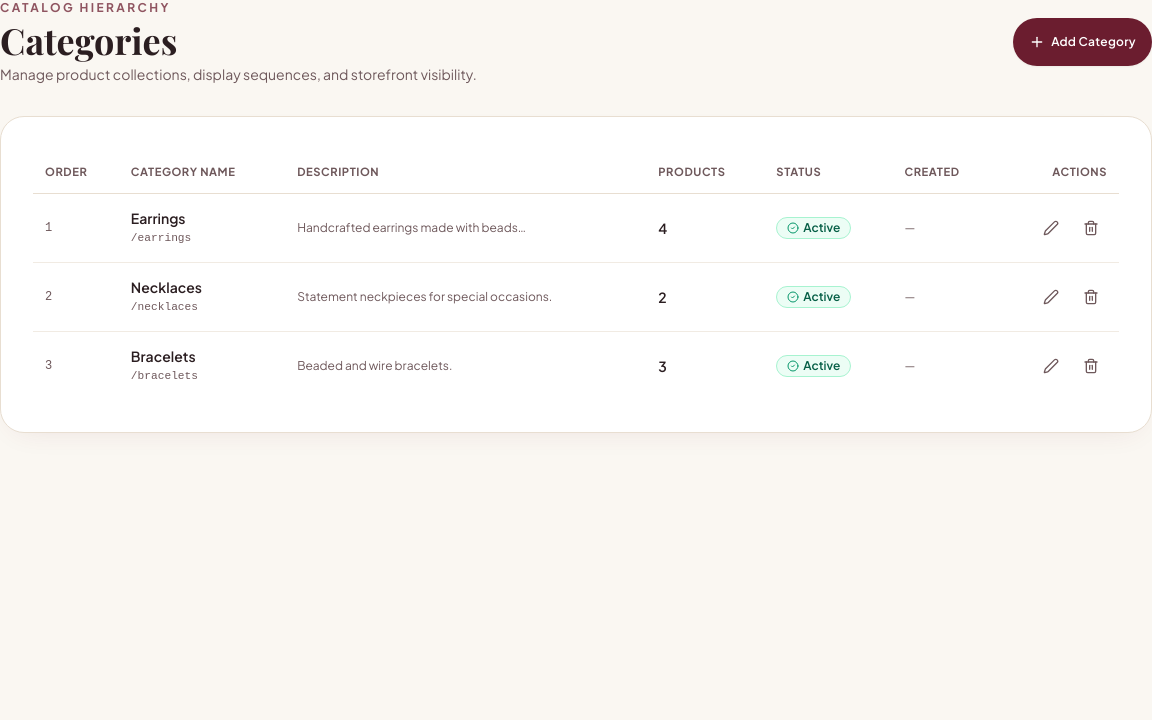
Scenario: AdminCategoriesPage › opens create modal, validates required name, and creates new category
The width and height of the screenshot is (1152, 720).
Expected: the text "Earrings" is shown, [131,209,186,227]
// Click Add Category
Click the button "Add Category" at {"x": 1083, "y": 42}, box [1013,18,1151,66]
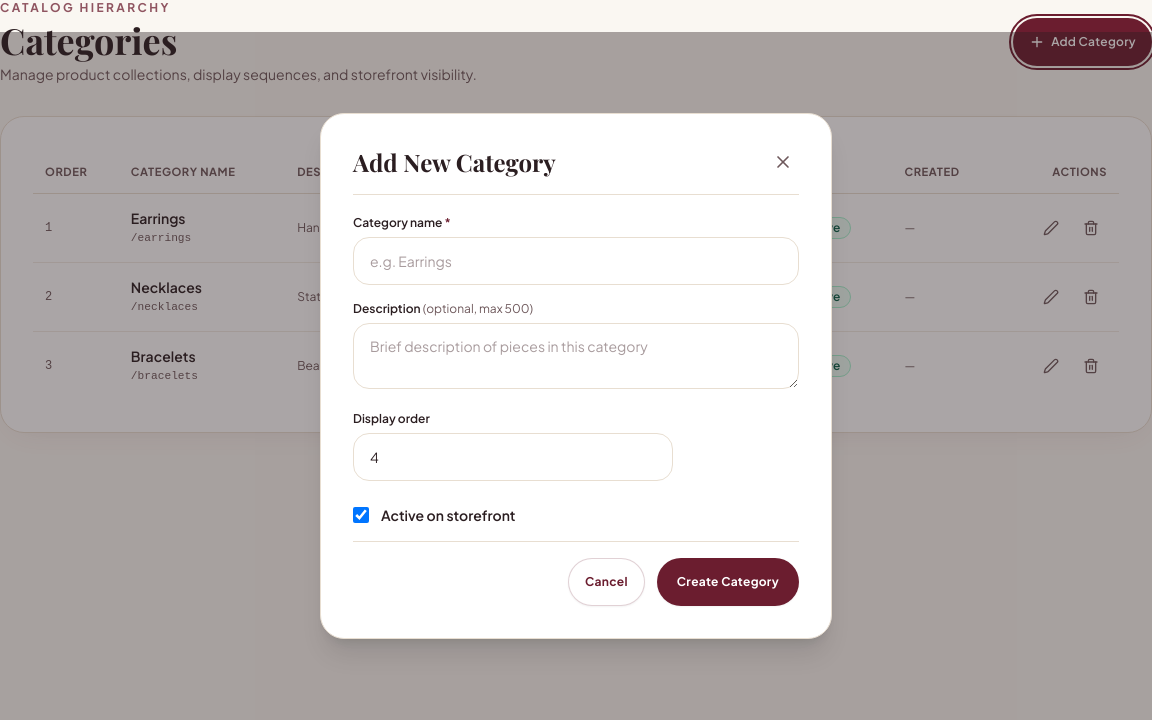
Now the dialog is shown, box [320,113,832,639]
Now the heading "Add New Category" is shown, box [353,146,556,178]
// Submit with empty name
Click the button "Create Category" at {"x": 728, "y": 582}, box [657,558,799,606]
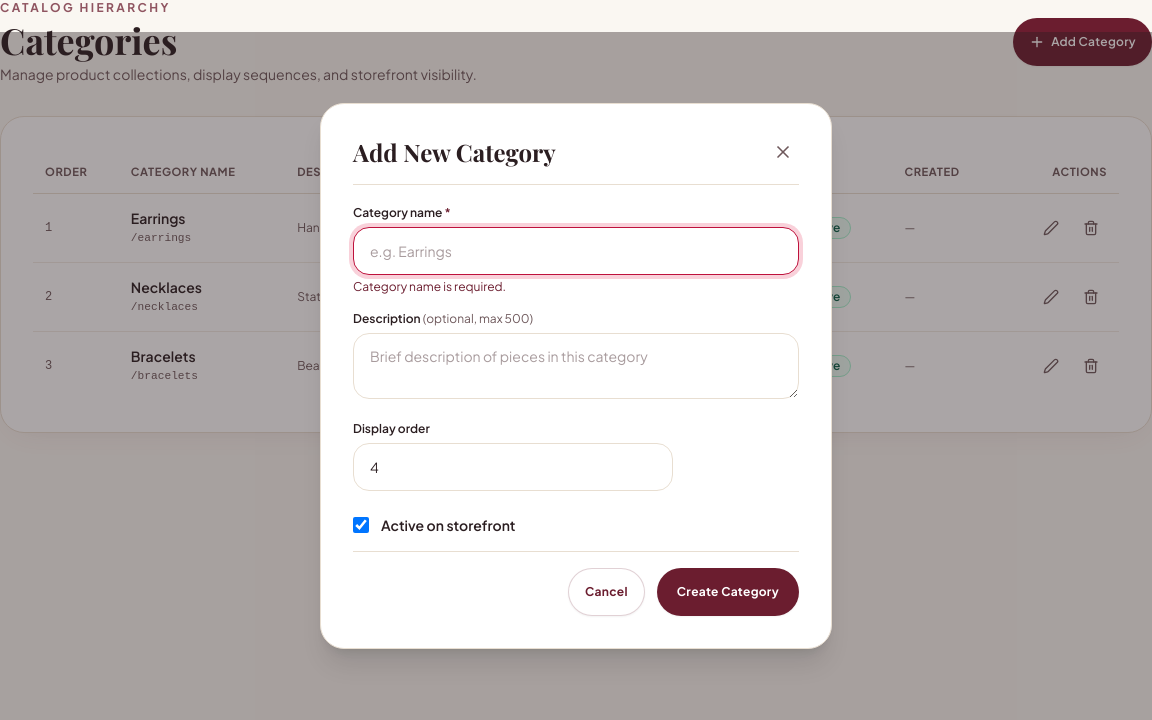
Now the text "Category name is required." is shown, box [353,279,506,294]
// Fill valid data
Type "Hair Accessories" into the field labelled "Category name *" at {"x": 576, "y": 251}, box [353,227,799,275]
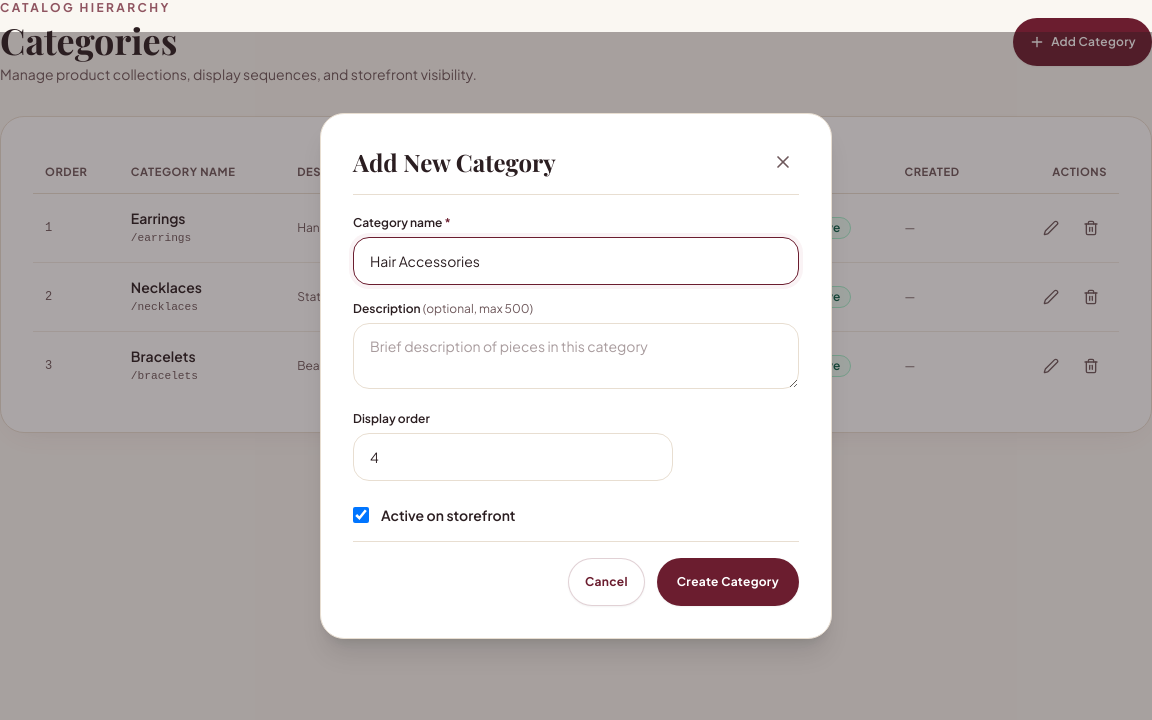
Type "Handmade hair pins and combs" into the text box labelled "Description (optional, max 500)" at {"x": 576, "y": 356}, box [353,323,799,389]
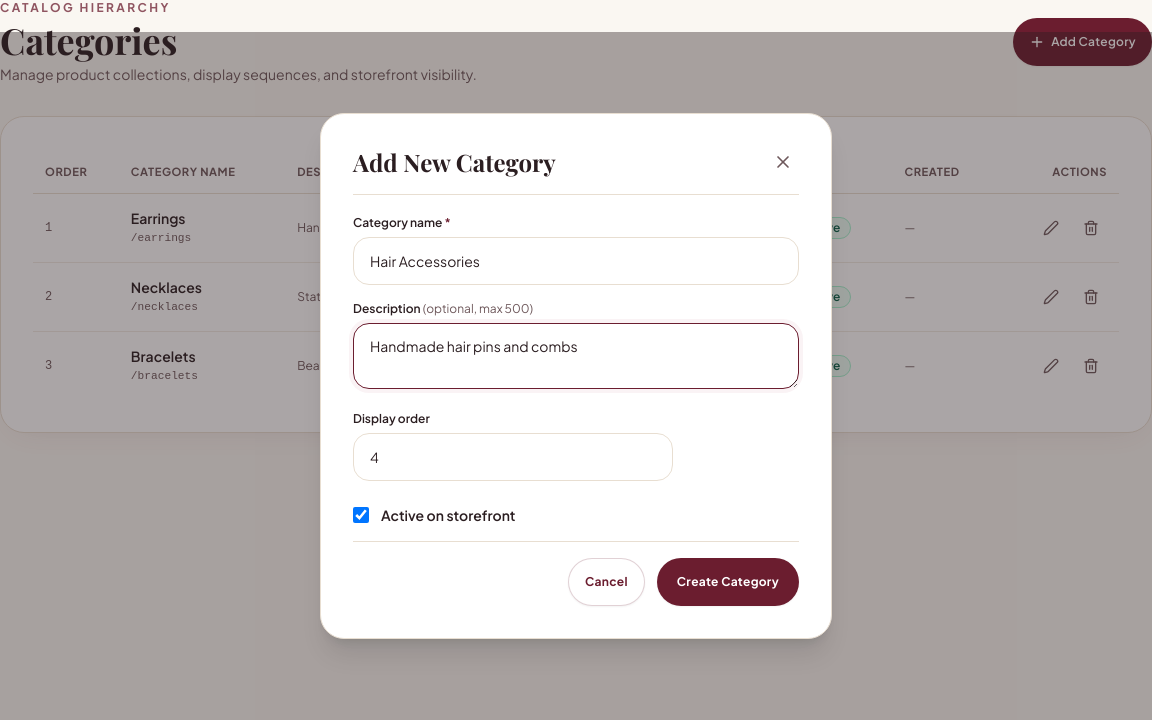
Click the button "Create Category" at {"x": 728, "y": 582}, box [657,558,799,606]
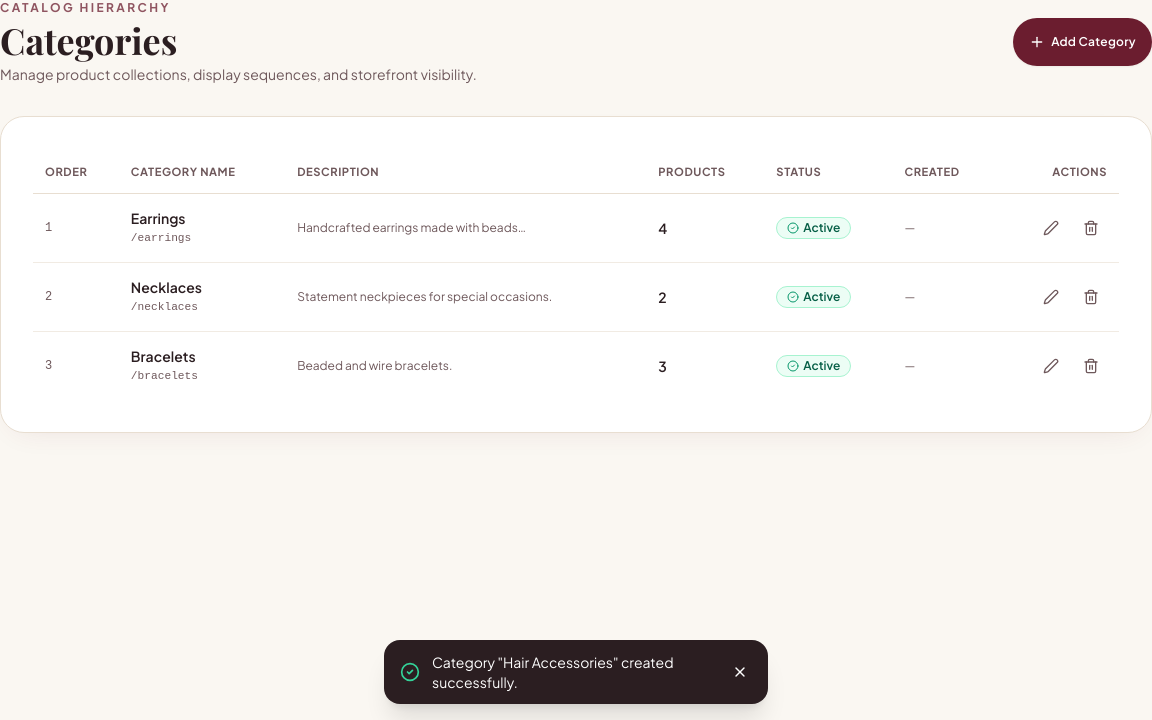
Now the dialog is gone
Now the text "Category \"Hair Accessories\" created successfully." is shown, box [432,652,716,692]
